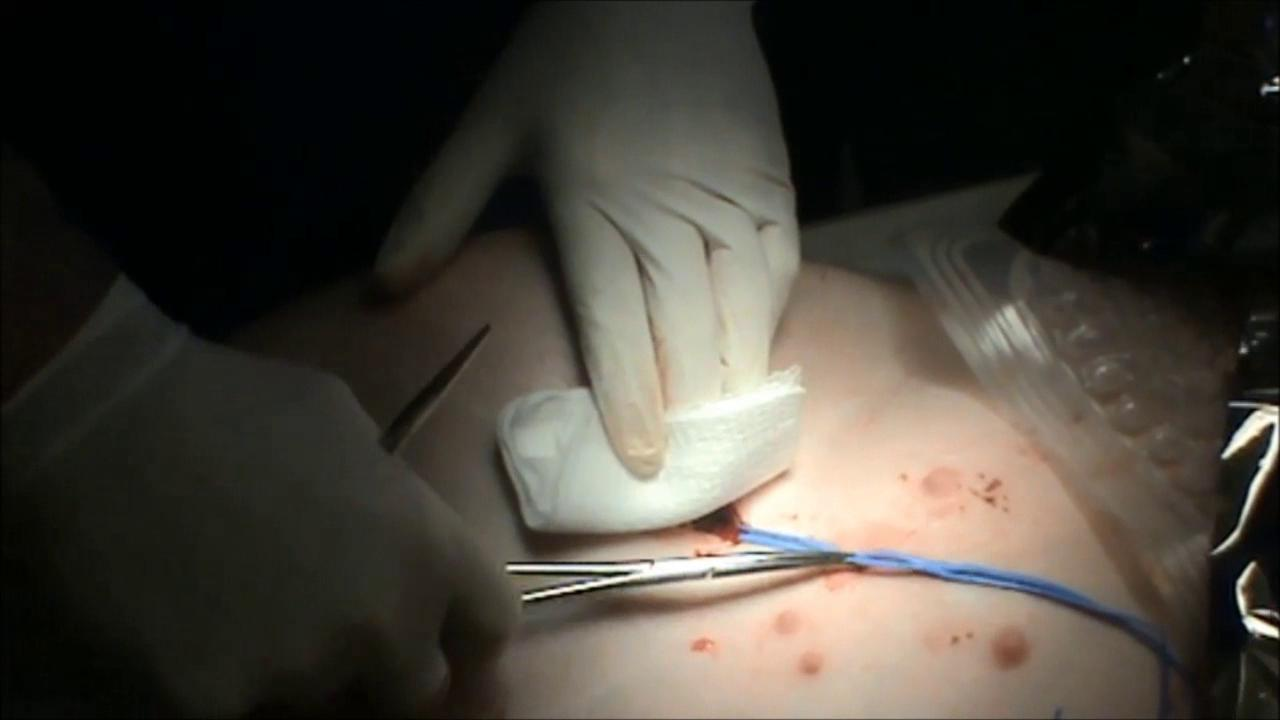gauze: (495, 361, 811, 538)
